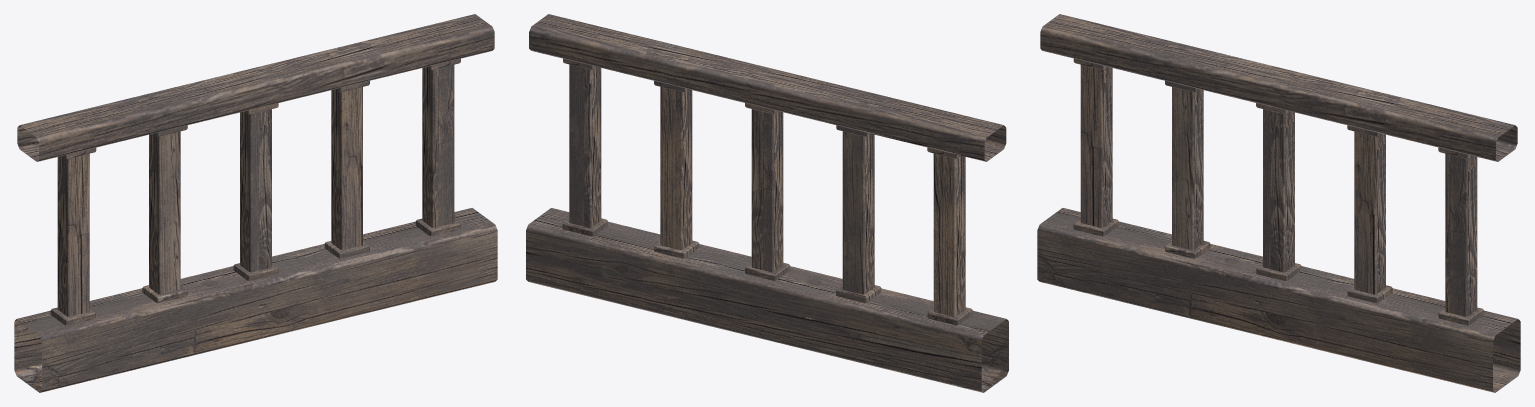
The model's file is IntWoodFence01b.FBX.
3 renders of one model, left to right at view 1: azimuth 30°, elevation 25°; view 2: azimuth 150°, elevation 25°; view 3: azimuth 330°, elevation 25°, orthographic.
Parts seen in each view (by area): view 1: Object024; view 2: Object024; view 3: Object024.
Boxes of the visible parts, left/top/right/bottom form: Object024: left=14, top=14, right=497, bottom=392; Object024: left=526, top=14, right=1008, bottom=392; Object024: left=1037, top=14, right=1520, bottom=392.
Size of the model in its own units: 49.21 by 26.12 by 5.14.
